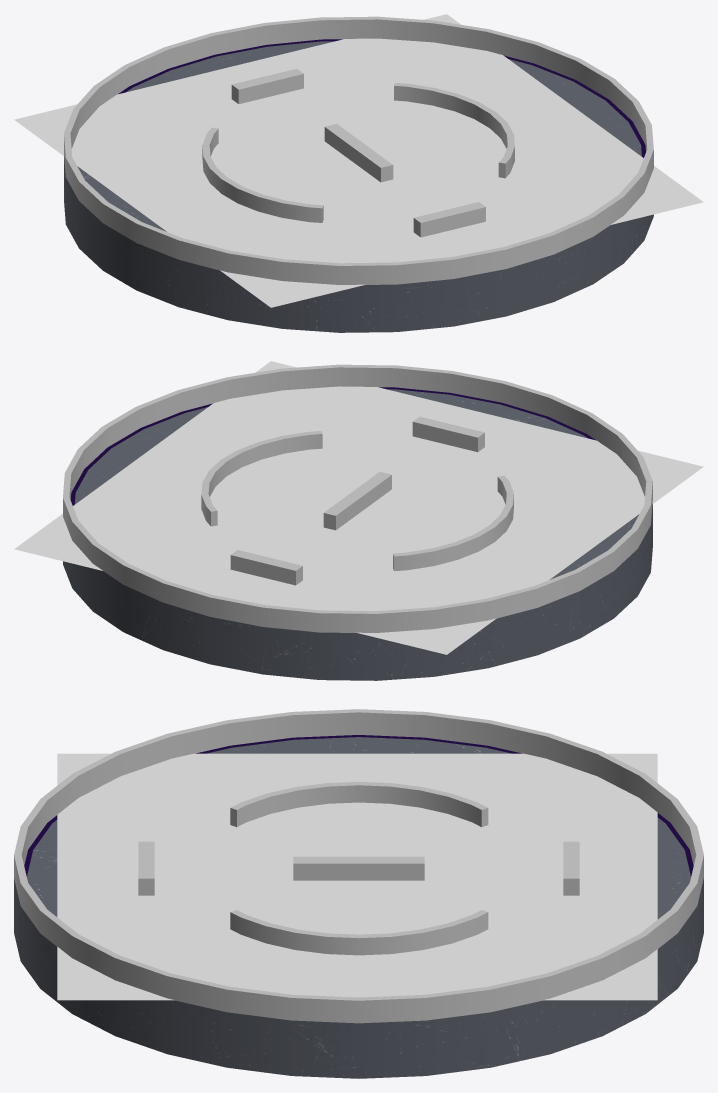
The model's file is Battle_Stage 18.fbx.
3 views of the same model, one above another, from view 1: azimuth 30°, elevation 25°; view 2: azimuth 150°, elevation 25°; view 3: azimuth 270°, elevation 25° (orthographic). The views are drawn at different scales.
Parts seen in each view (by area): view 1: Plane.122, circle_platform_2.002, circle_platform_2.001, circle_platform_2.003; view 2: Plane.122, circle_platform_2.002, circle_platform_2.001, circle_platform_2.003; view 3: Plane.122, circle_platform_2.002, circle_platform_2.001, circle_platform_2.003.
Boxes of the visible parts, left/top/right/bottom form: Plane.122: left=14, top=14, right=703, bottom=307; circle_platform_2.002: left=64, top=16, right=653, bottom=284; circle_platform_2.001: left=64, top=41, right=653, bottom=332; circle_platform_2.003: left=118, top=39, right=645, bottom=157; Plane.122: left=14, top=361, right=703, bottom=654; circle_platform_2.002: left=63, top=364, right=652, bottom=632; circle_platform_2.001: left=63, top=389, right=652, bottom=680; circle_platform_2.003: left=70, top=387, right=595, bottom=505; Plane.122: left=57, top=753, right=657, bottom=1000; circle_platform_2.002: left=14, top=709, right=703, bottom=1023; circle_platform_2.001: left=14, top=737, right=703, bottom=1078; circle_platform_2.003: left=24, top=735, right=693, bottom=876.
Size of the model in its own units: 7200 by 899 by 7200.
